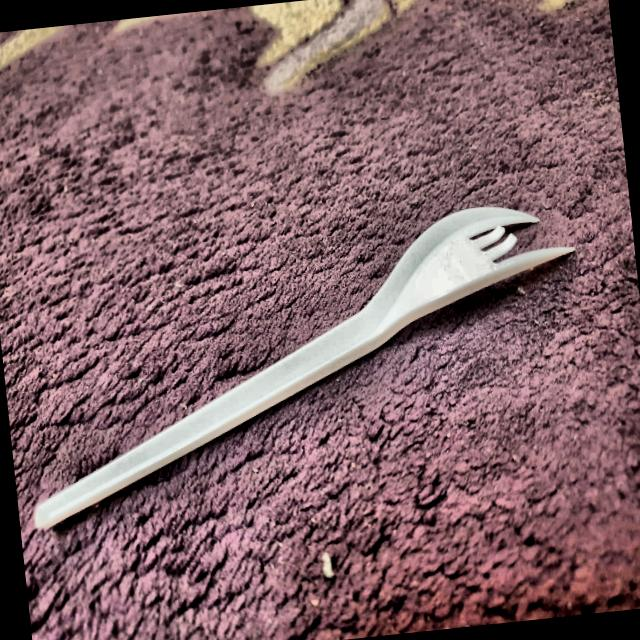plastic utensil: (5, 191, 600, 534)
